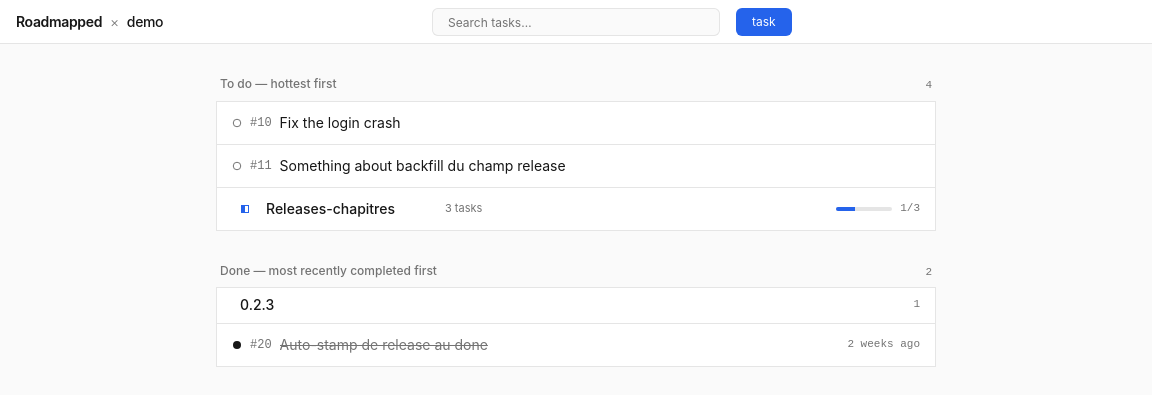
it: Backlog search (#348) › un terme exact présent dans un titre filtre la liste sur ce ticket
Type "backfill" into the field labelled "Search tasks" at (580, 22), box [448, 16, 712, 28]
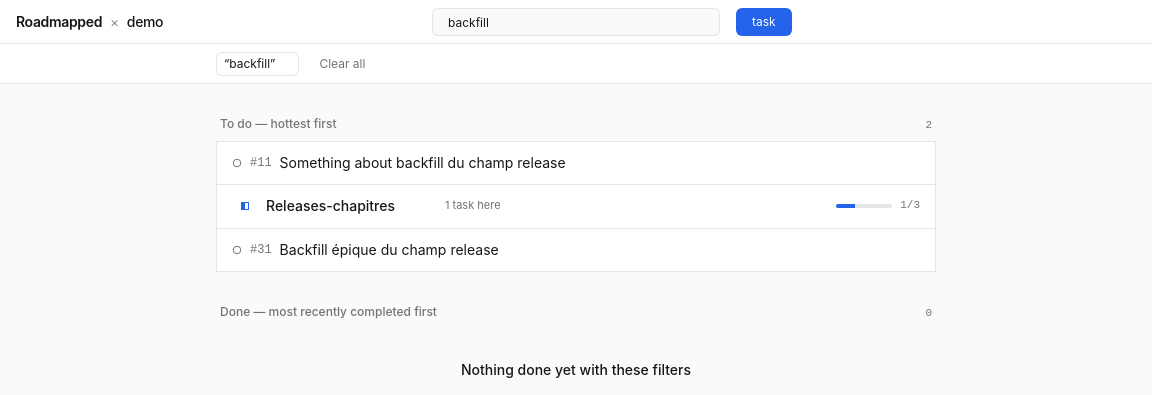
Check: the text "Something about backfill du champ release" is shown, box [280, 153, 566, 173]
Check: the button "Fix the login crash" is gone
